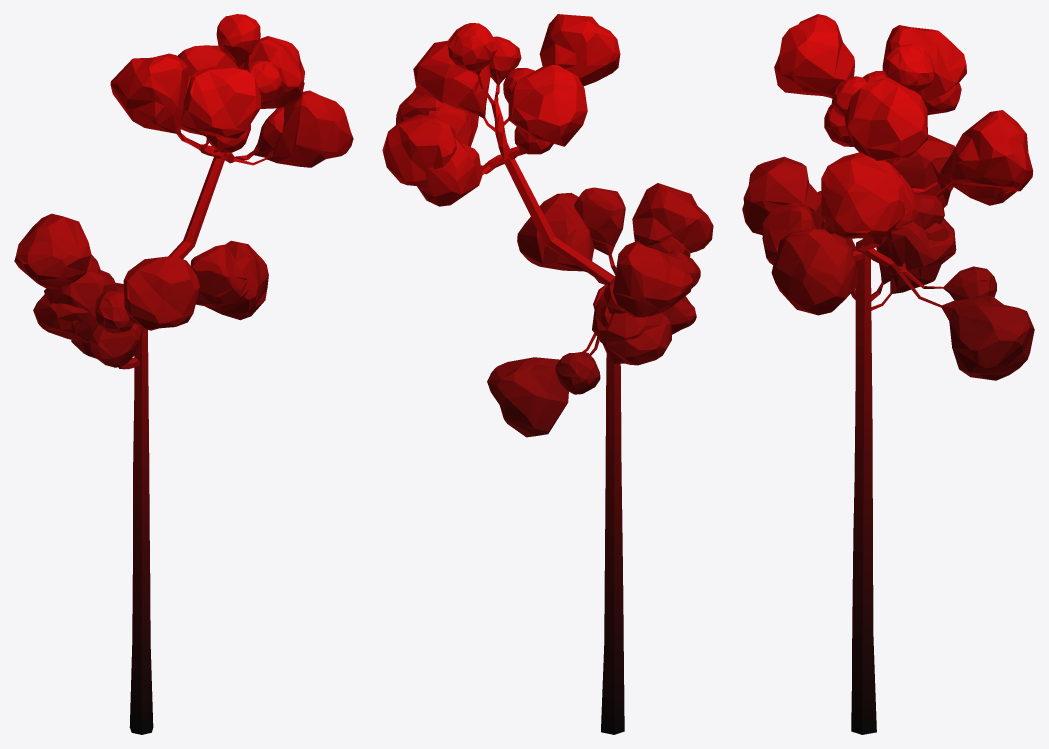
File: TreePine08.fbx
3 views of the same model, side by side, from view 1: azimuth 30°, elevation 25°; view 2: azimuth 150°, elevation 25°; view 3: azimuth 270°, elevation 25° (orthographic). The views are drawn at different scales.
Parts seen in each view (by area): view 1: TreePine08_LOD0; view 2: TreePine08_LOD0; view 3: TreePine08_LOD0.
Boxes of the visible parts, <box> form: TreePine08_LOD0: <box>14,14,353,734</box>; TreePine08_LOD0: <box>382,14,713,734</box>; TreePine08_LOD0: <box>742,14,1034,734</box>.
Size of what is drawn, in the model's own units: 596 by 1250 by 444.
